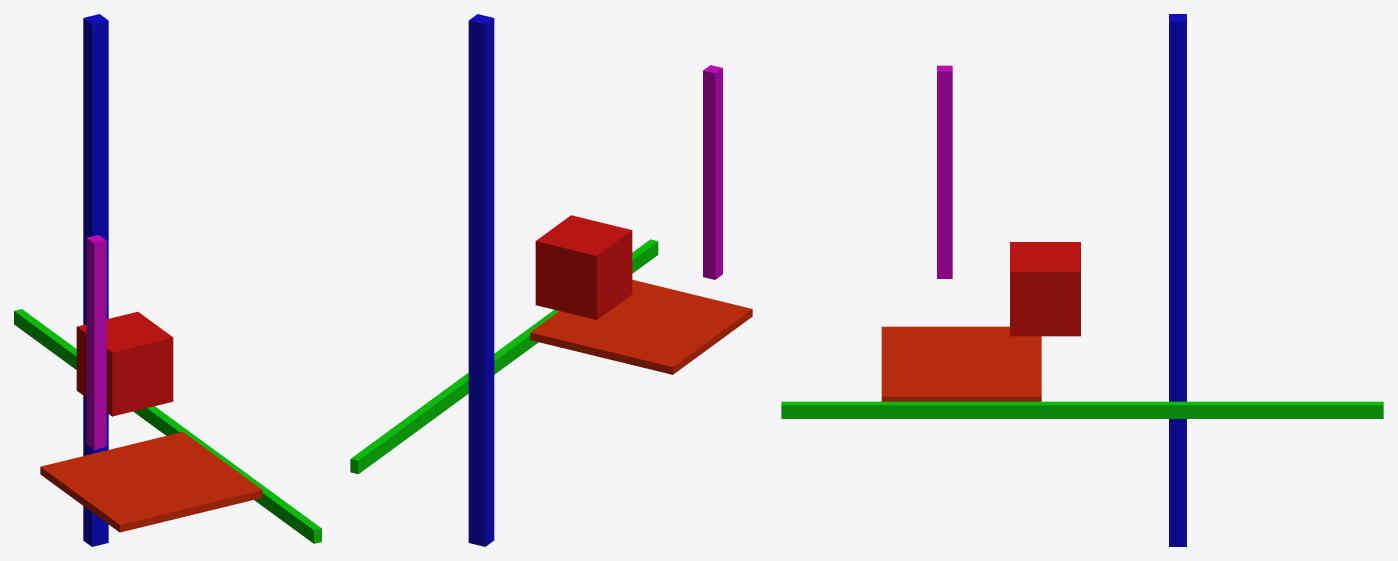
The model's file is SM_Deccer_Cubes_Colored.obj.
3 views of the same model, side by side, from view 1: azimuth 30°, elevation 25°; view 2: azimuth 150°, elevation 25°; view 3: azimuth 270°, elevation 25° (orthographic).
Parts seen in each view (by area): view 1: Cube.004, Cube.002, Cube, Cube.003, Cube.001; view 2: Cube.002, Cube.004, Cube, Cube.003, Cube.001; view 3: Cube.004, Cube.001, Cube.002, Cube, Cube.003.
Boxes of the visible parts, bbox=[...] form: Cube.004: bbox=[40, 432, 262, 532]; Cube.002: bbox=[83, 14, 108, 546]; Cube: bbox=[76, 311, 173, 416]; Cube.003: bbox=[86, 235, 106, 449]; Cube.001: bbox=[14, 309, 321, 543]; Cube.002: bbox=[468, 14, 494, 546]; Cube.004: bbox=[530, 279, 752, 374]; Cube: bbox=[535, 215, 632, 319]; Cube.003: bbox=[703, 65, 722, 279]; Cube.001: bbox=[350, 239, 658, 474]; Cube.004: bbox=[881, 326, 1041, 401]; Cube.001: bbox=[781, 401, 1383, 418]; Cube.002: bbox=[1169, 14, 1186, 546]; Cube: bbox=[1010, 242, 1080, 336]; Cube.003: bbox=[937, 65, 952, 278].
Bounding box in the file's own units: 4.97 × 16.3 × 16.96.
